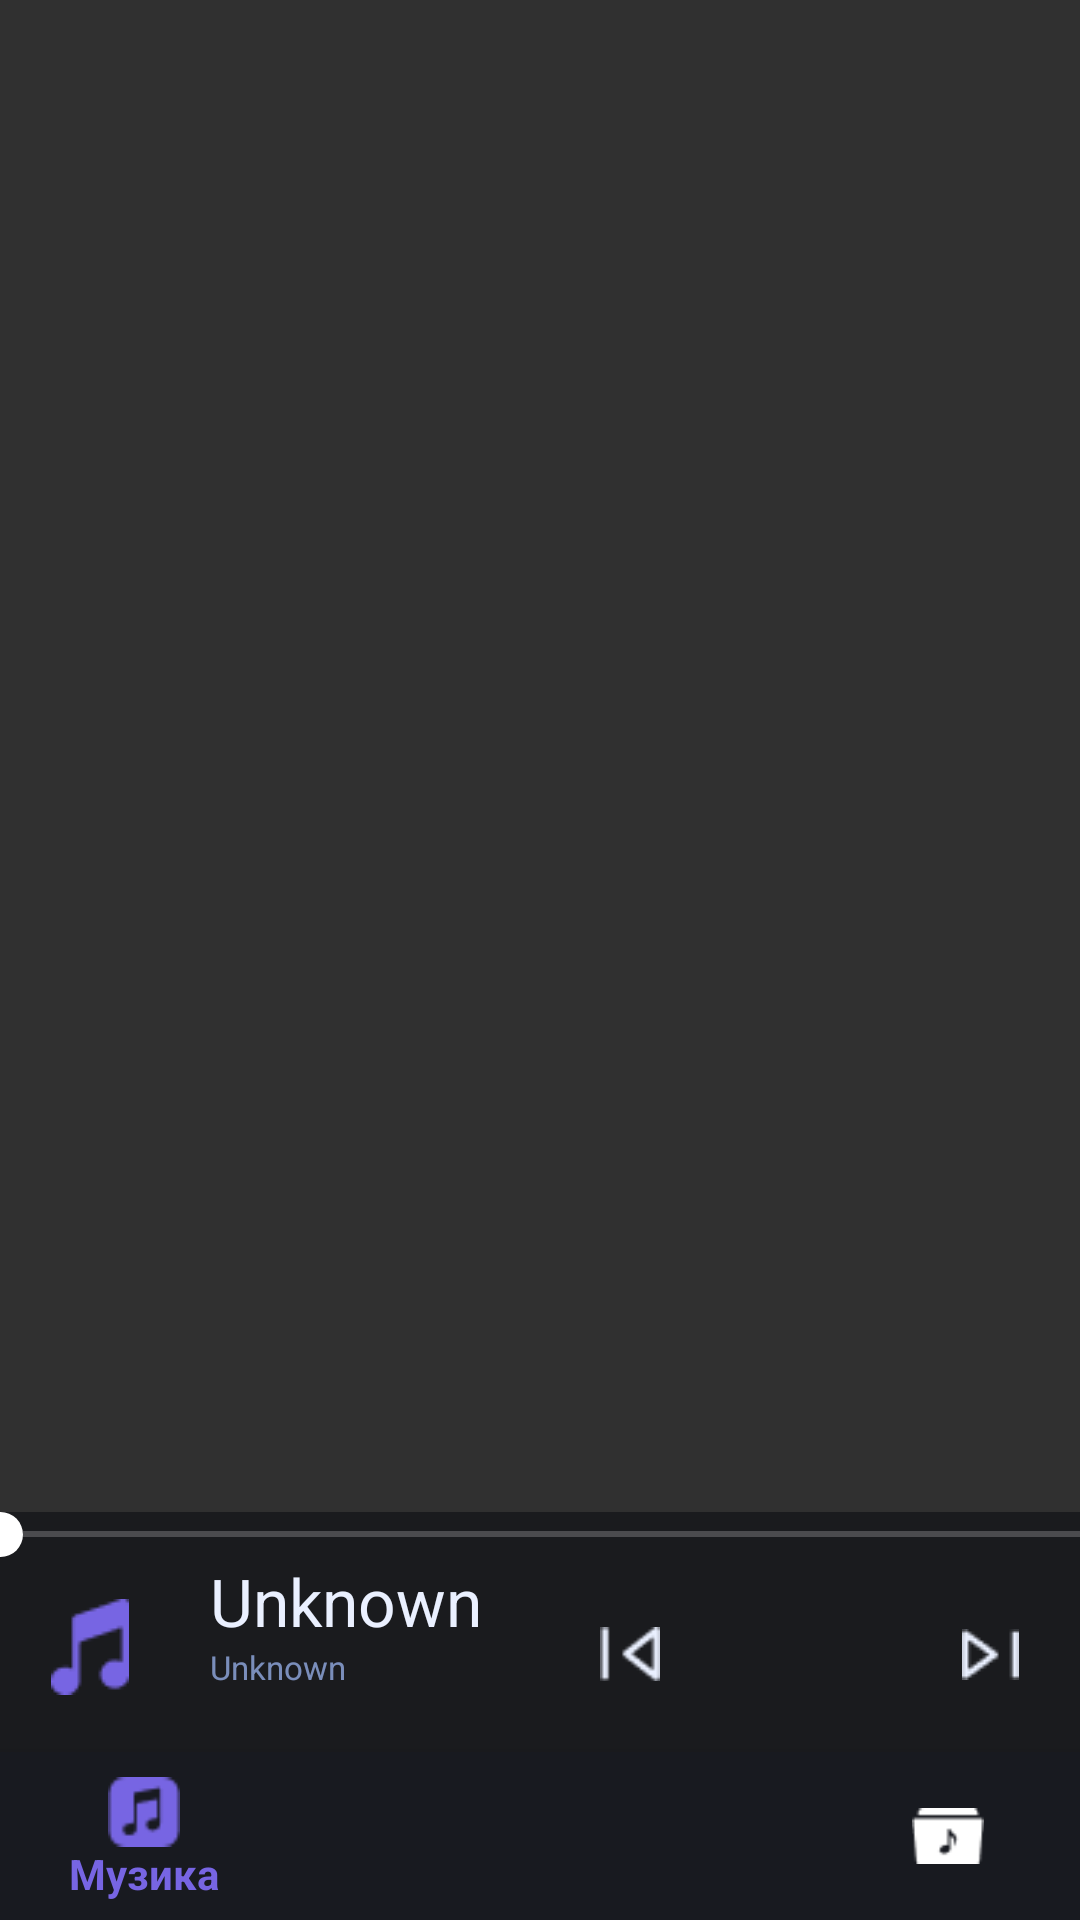

Icons on this 1080 × 1920 Android screen, each with the point to tap as [x,y]:
next: [990,1654]
previous: [630,1654]
